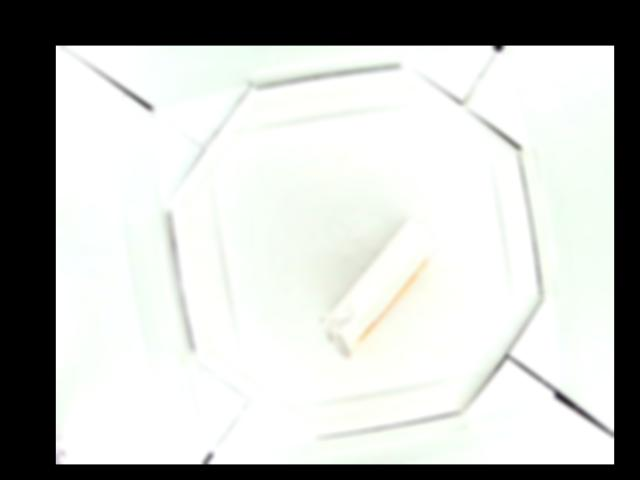China: (322, 220, 439, 358)
